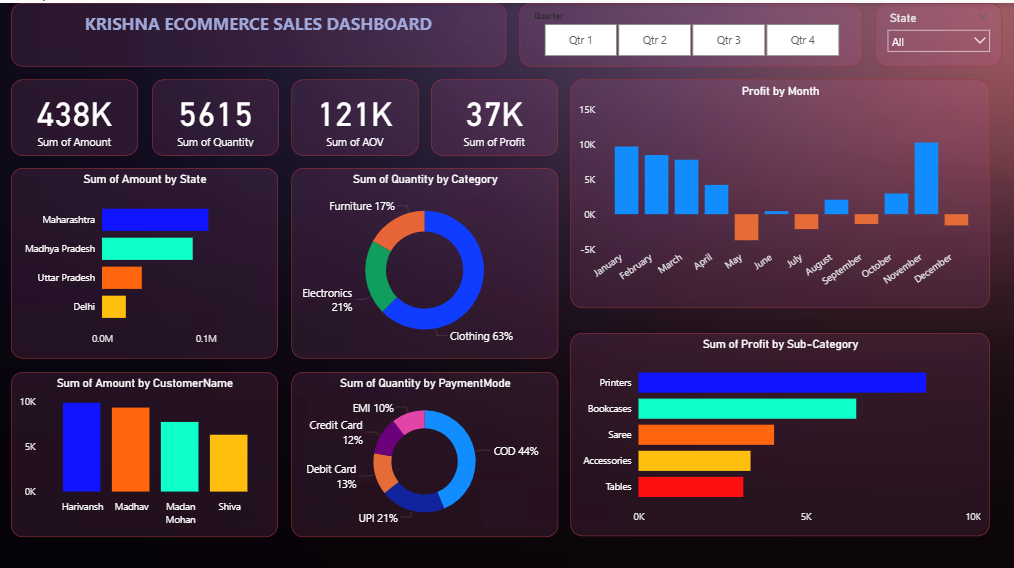

Layout of this report page (visuals, bound fields, positions):
{"tool":"powerbi","page":{"name":"Page 1","canvas":[1280,720],"ordinal":0},"visuals":[{"type":"textbox","box":[16,0,624,80],"z":0},{"type":"columnChart","title":"Profit by Month","fields":{"Category":["Orders.Order Date.Variation.Date Hierarchy.Month"],"Y":["Details.Profit"]},"box":[720,96,528,288],"z":1000},{"type":"barChart","fields":{"Y":["Details.Profit"],"Category":["Details.Sub-Category"]},"box":[720,416,528,256],"z":2000},{"type":"donutChart","fields":{"Category":["Details.Category"],"Y":["Details.Quantity"]},"box":[368,208,336,240],"z":3000},{"type":"donutChart","fields":{"Y":["Details.Quantity"],"Category":["Details.PaymentMode"]},"box":[368,464,336,208],"z":4000},{"type":"card","fields":{"Values":["Details.Amount"]},"box":[16,96,160,96],"z":5000},{"type":"card","fields":{"Values":["Details.Profit"]},"box":[544,96,160,96],"z":6000},{"type":"card","fields":{"Values":["Details.Quantity"]},"box":[192,96,160,96],"z":7000},{"type":"card","fields":{"Values":["Details.AOV"]},"box":[368,96,160,96],"z":8000},{"type":"barChart","fields":{"Y":["Details.Amount"],"Category":["Orders.State"]},"box":[16,208,336,240],"z":9000},{"type":"columnChart","fields":{"Category":["Orders.CustomerName"],"Y":["Details.Amount"]},"box":[16,464,336,208],"z":10000},{"type":"slicer","fields":{"Values":["Orders.Order Date.Variation.Date Hierarchy.Quarter"]},"box":[656,0,432,80],"z":11000},{"type":"slicer","fields":{"Values":["Orders.State"]},"box":[1104,0,160,80],"z":12000}]}

Visuals, with their boxes in screenshot pixels (x1, y1, x2, y2), scaled from the page's 1280x720 canvas onto the 1014x568 screenshot:
textbox: <bbox>13, 0, 507, 63</bbox>
"Profit by Month" columnChart: <bbox>570, 76, 989, 303</bbox>
barChart - Details.Profit x Details.Sub-Category: <bbox>570, 328, 989, 530</bbox>
donutChart - Details.Category x Details.Quantity: <bbox>292, 164, 558, 353</bbox>
donutChart - Details.Quantity x Details.PaymentMode: <bbox>292, 366, 558, 530</bbox>
card - Details.Amount: <bbox>13, 76, 139, 151</bbox>
card - Details.Profit: <bbox>431, 76, 558, 151</bbox>
card - Details.Quantity: <bbox>152, 76, 279, 151</bbox>
card - Details.AOV: <bbox>292, 76, 418, 151</bbox>
barChart - Details.Amount x Orders.State: <bbox>13, 164, 279, 353</bbox>
columnChart - Orders.CustomerName x Details.Amount: <bbox>13, 366, 279, 530</bbox>
slicer - Orders.Order Date.Variation.Date Hierarchy.Quarter: <bbox>520, 0, 862, 63</bbox>
slicer - Orders.State: <bbox>875, 0, 1001, 63</bbox>
